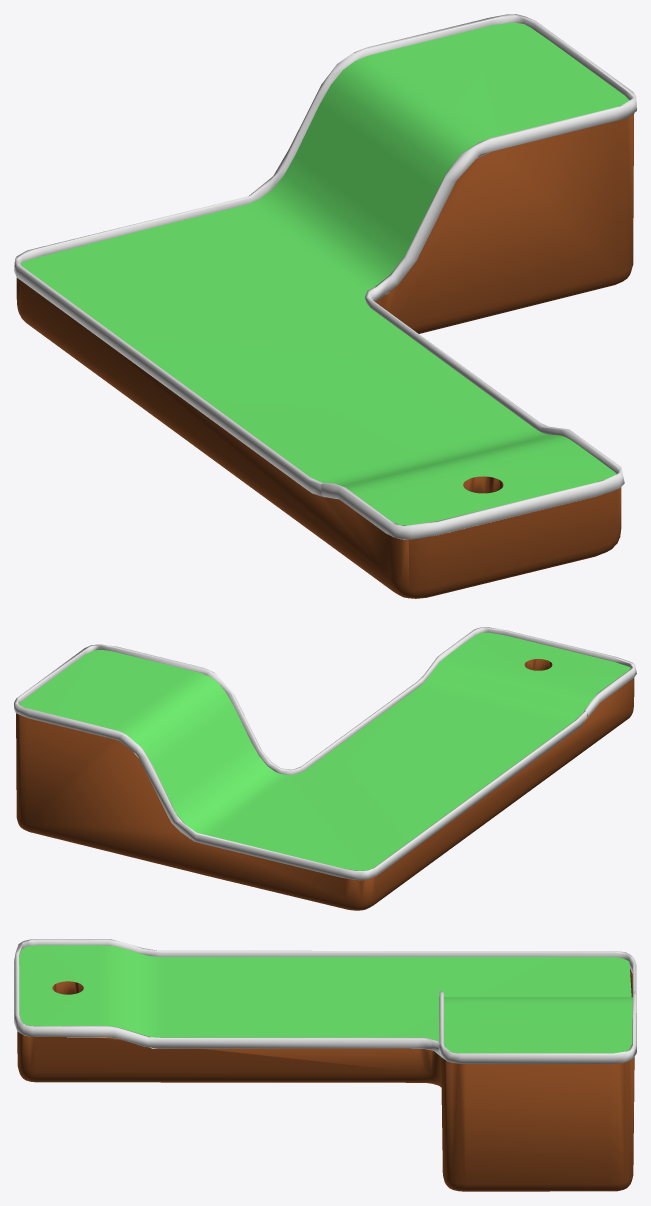
The picture shows the model from 3 angles, top to bottom: view 1: azimuth 30°, elevation 25°; view 2: azimuth 150°, elevation 25°; view 3: azimuth 270°, elevation 25°; orthographic projection. The views are drawn at different scales.
Visible parts, largest first — view 1: MiniCourse; view 2: MiniCourse; view 3: MiniCourse.
Boxes of the visible parts, bbox=[...] form: MiniCourse: bbox=[14, 14, 636, 598]; MiniCourse: bbox=[14, 627, 636, 910]; MiniCourse: bbox=[14, 939, 636, 1191].
Size of the model in its own units: 18.18 by 6.22 by 24.19.
